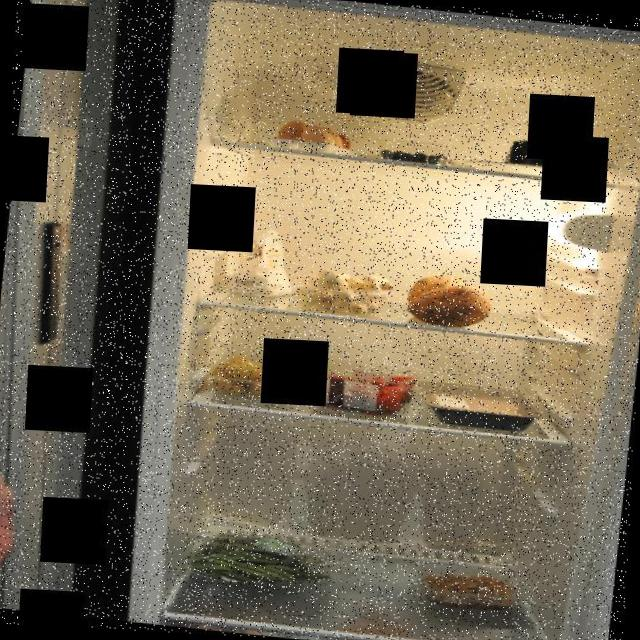Carne pollo: (424, 385, 534, 433)
Champiñones: (296, 268, 398, 318)
Gambas/Langostinos: (420, 566, 520, 614)
Huevos: (274, 118, 355, 156)
Patata: (203, 349, 303, 406)
Queso: (504, 136, 558, 172)
blueberries: (380, 146, 460, 169)
flour: (222, 225, 300, 303)
green_beans: (184, 526, 338, 598)
strawberries: (316, 360, 416, 420)
sweet_potato: (403, 269, 495, 331)
